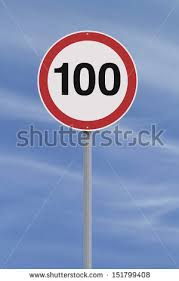Speed_limit_100km: (36, 30, 138, 131)
